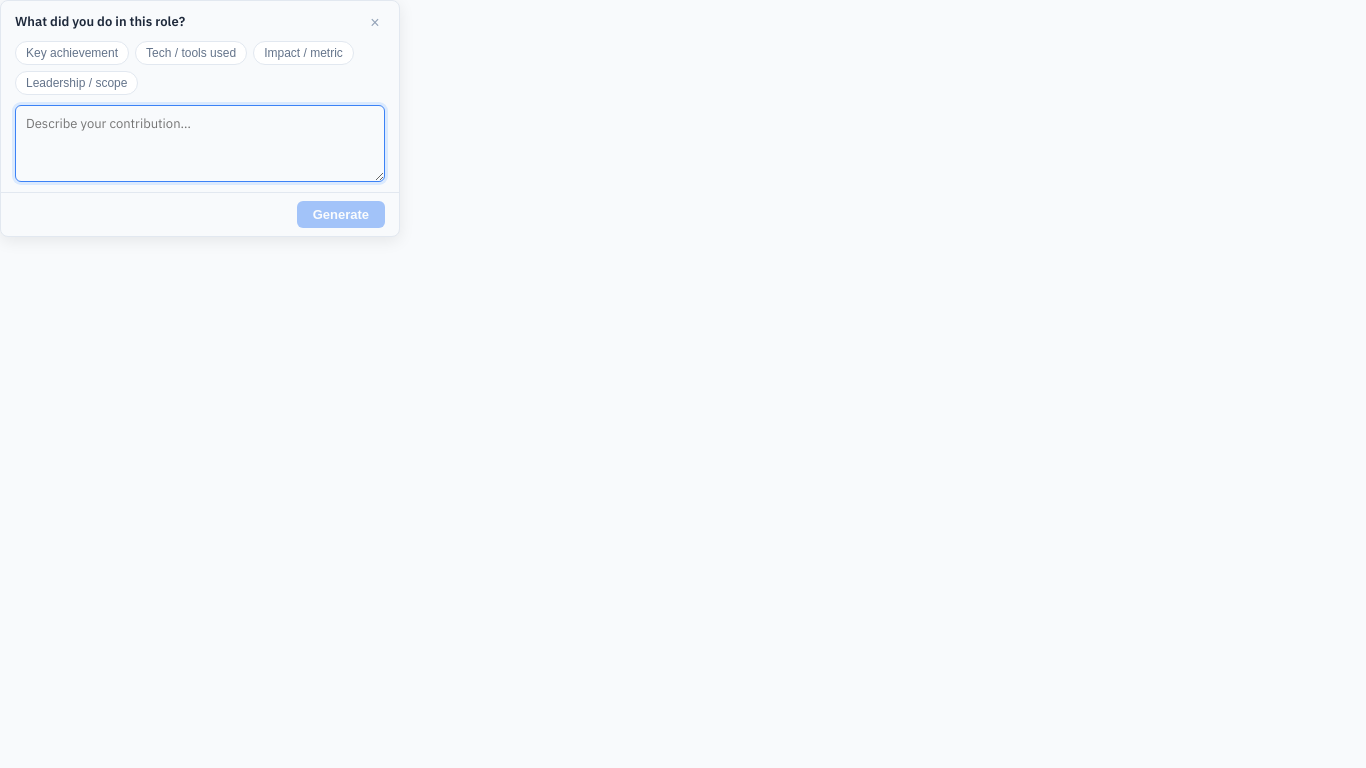
Scenario: SectionAssistPopover › 2. clicking a chip fills the textarea
Click the button "Key achievement" at (72, 53), box [15, 41, 129, 65]
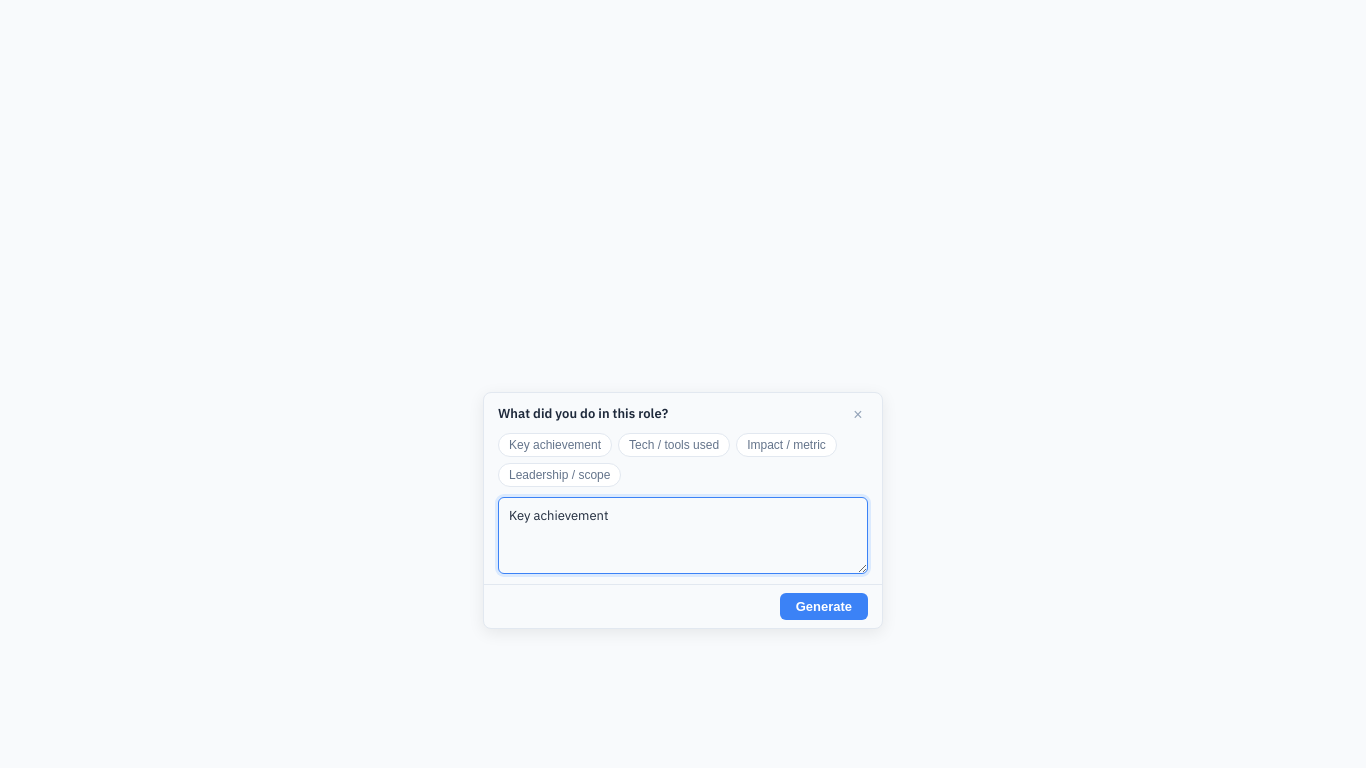
expect the text box holds "Key achievement": met, box [498, 497, 868, 574]
